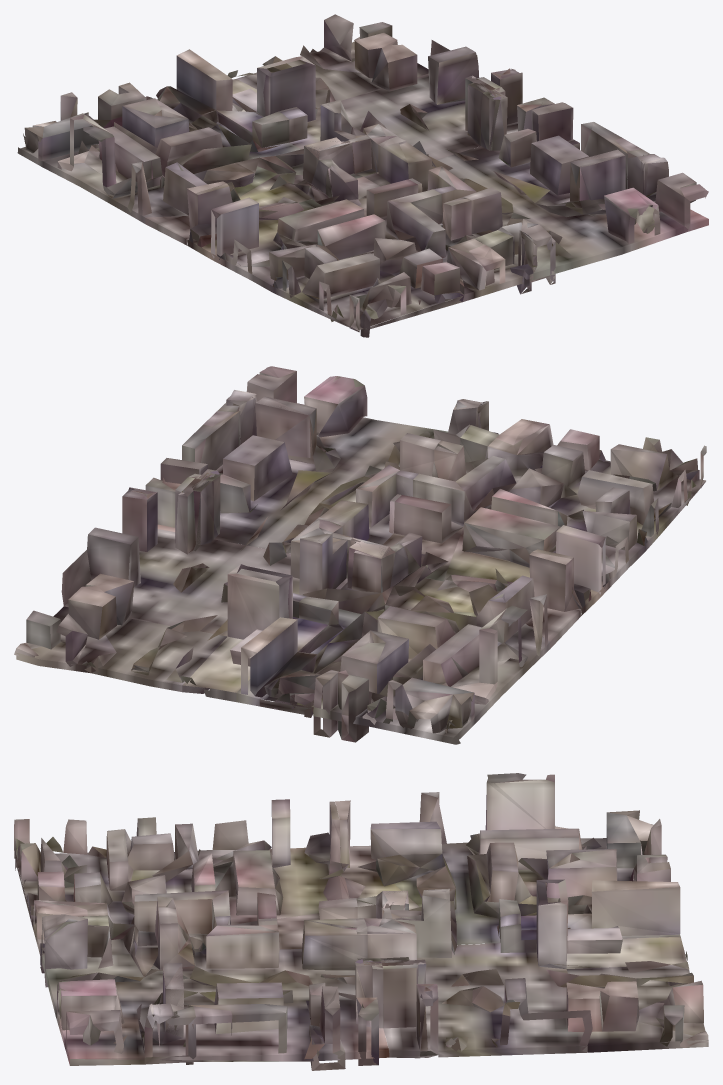
3 views of the same model, one above another, from view 1: azimuth 30°, elevation 25°; view 2: azimuth 150°, elevation 25°; view 3: azimuth 270°, elevation 25° (orthographic). The views are drawn at different scales.
Parts seen in each view (by area): view 1: Mesh_0; view 2: Mesh_0; view 3: Mesh_0.
Boxes of the visible parts, bbox=[...] form: Mesh_0: bbox=[17, 14, 708, 337]; Mesh_0: bbox=[14, 366, 706, 744]; Mesh_0: bbox=[14, 773, 708, 1070].
Bounding box in the file's own units: 537 × 96.87 × 660.
Materials: 1 (1 with a texture image).
